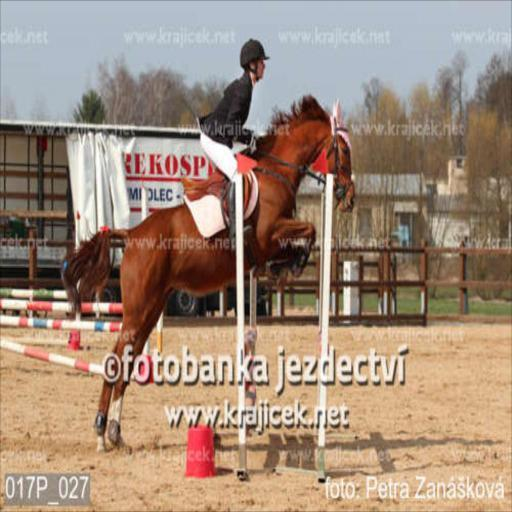horse: (56, 89, 358, 451)
